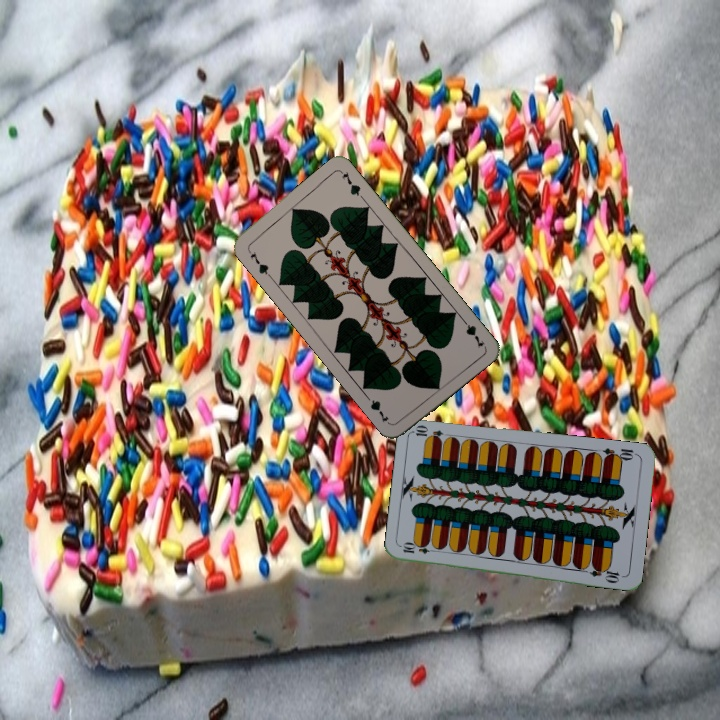E10: (599, 444, 640, 464), (399, 541, 439, 557)
G7: (457, 314, 487, 351), (243, 245, 273, 280)
